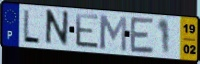1: (156, 18, 171, 57)
E: (129, 16, 155, 55), (74, 12, 100, 50)
L: (21, 8, 42, 46)
M: (98, 13, 128, 53)
N: (43, 9, 70, 48)
